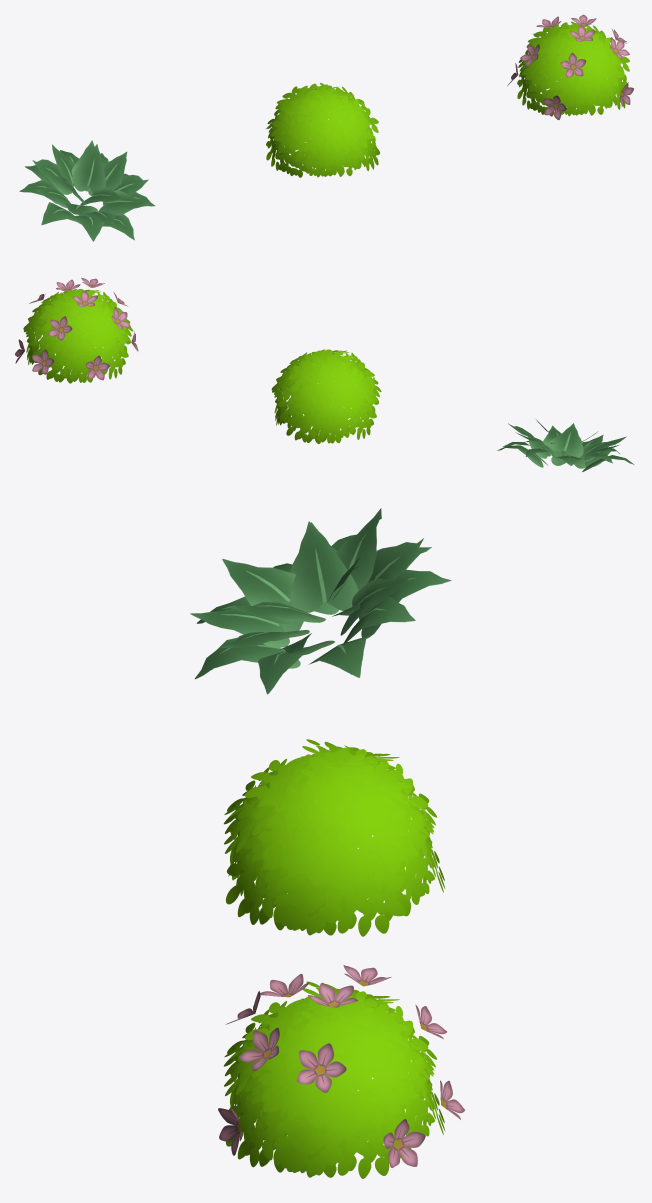
Rendered from bush.glb.
3 views of the same model, one above another, from view 1: azimuth 30°, elevation 25°; view 2: azimuth 150°, elevation 25°; view 3: azimuth 270°, elevation 25° (orthographic). The views are drawn at different scales.
Parts seen in each view (by area): view 1: Bush_Flowers, Bush, Plant_1; view 2: Bush_Flowers, Bush, Plant_1; view 3: Bush_Flowers, Bush, Plant_1.
Part boxes in pixels (box(x1,y1,x2,y2)): Bush_Flowers: box(507, 14, 633, 119); Bush: box(266, 82, 380, 177); Plant_1: box(19, 140, 154, 241); Bush_Flowers: box(15, 278, 138, 383); Bush: box(271, 349, 381, 443); Plant_1: box(497, 419, 634, 471); Bush_Flowers: box(218, 965, 464, 1178); Bush: box(224, 739, 445, 936); Plant_1: box(190, 508, 451, 694).
Bounding box in the file's own units: 6.03 × 0.7974 × 1.23.
2 materials, 2 textured.
